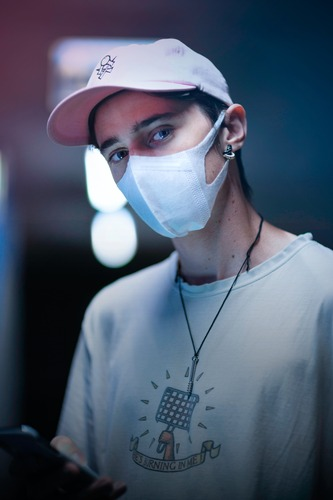with_mask: (96, 113, 219, 239)
